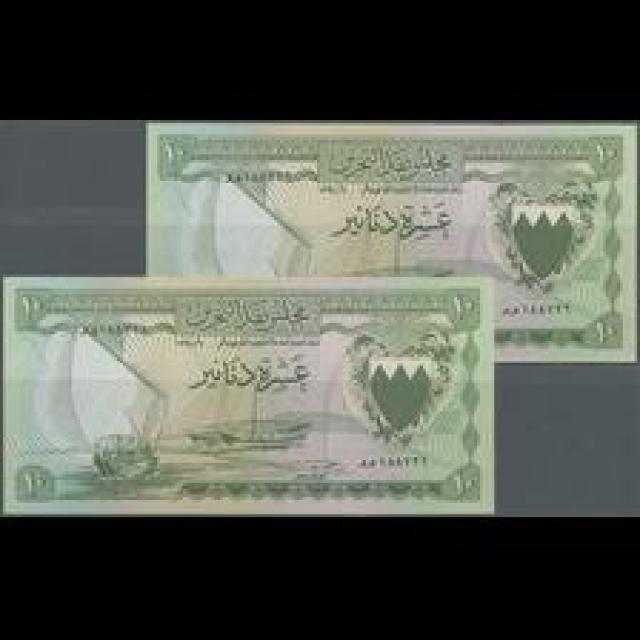banknote: (143, 117, 637, 366), (0, 271, 494, 514)
